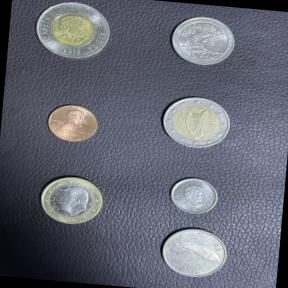1 Euro-B: (33, 168, 109, 234)
2 Euro-B: (156, 92, 237, 157)
Canada-10cent-B: (164, 173, 222, 219)
Canada-2Dollar-B: (30, 0, 117, 66)
Croatia-2Kune-B: (157, 223, 233, 283)
US-1cent-B: (42, 100, 104, 148)
US-25cent-B: (164, 12, 242, 72)
